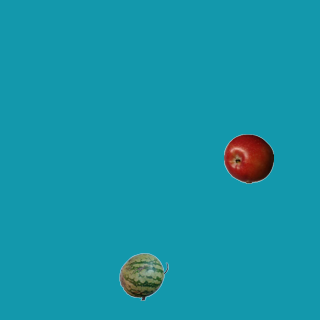Apple Braeburn: (223, 133, 273, 183)
Watermelon: (118, 251, 168, 301)
